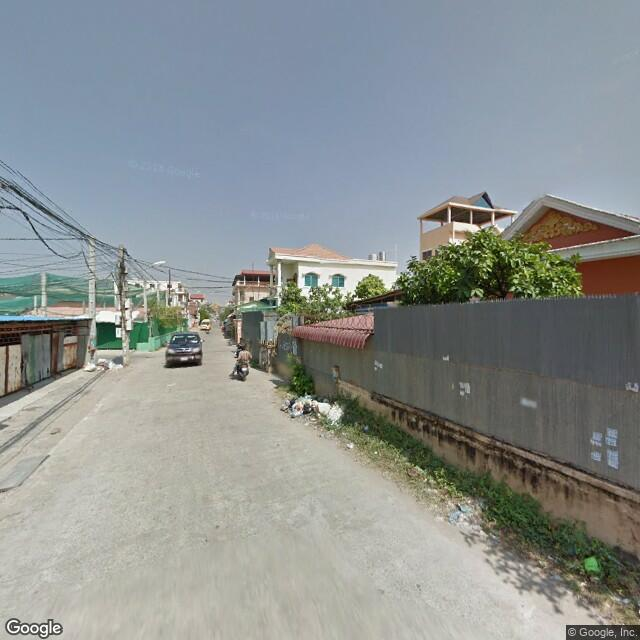litter: (278, 385, 351, 430), (578, 546, 612, 586), (82, 350, 126, 379), (336, 437, 361, 454), (361, 419, 373, 432)
